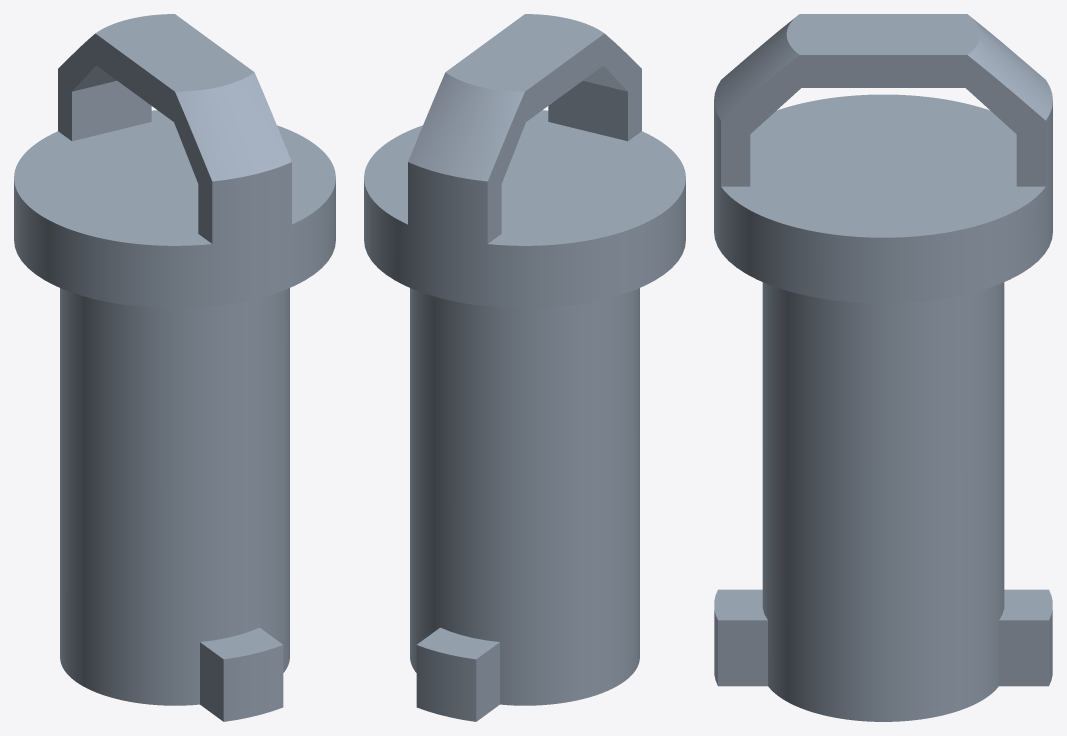
The model's file is fuelrod.obj.
3 renders of one model, left to right at view 1: azimuth 30°, elevation 25°; view 2: azimuth 150°, elevation 25°; view 3: azimuth 270°, elevation 25°, orthographic. The views are drawn at different scales.
Visible parts, largest first — view 1: 1; view 2: 1; view 3: 1.
Boxes of the visible parts, x1,y1,x2,y2 form: 1: (14,14,335,721); 1: (364,14,685,721); 1: (714,14,1052,721).
Size of the model in its own units: 14 by 29 by 14.
